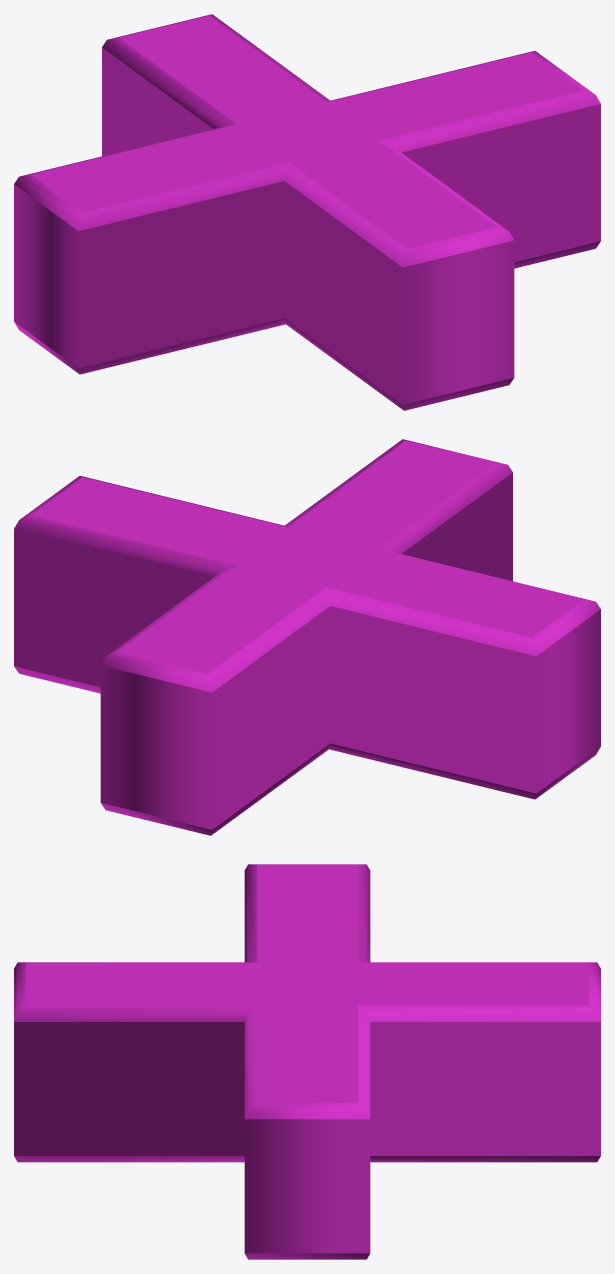
Rendered from PlusSign_CoolFont.fbx.
3 views of the same model, one above another, from view 1: azimuth 30°, elevation 25°; view 2: azimuth 150°, elevation 25°; view 3: azimuth 270°, elevation 25° (orthographic). The views are drawn at different scales.
Parts seen in each view (by area): view 1: PlusSign; view 2: PlusSign; view 3: PlusSign.
Boxes of the visible parts, bbox=[...] form: PlusSign: bbox=[14, 14, 600, 410]; PlusSign: bbox=[14, 439, 600, 835]; PlusSign: bbox=[14, 864, 600, 1259].
Size of the model in its own units: 0.4777 by 0.14 by 0.4765.
